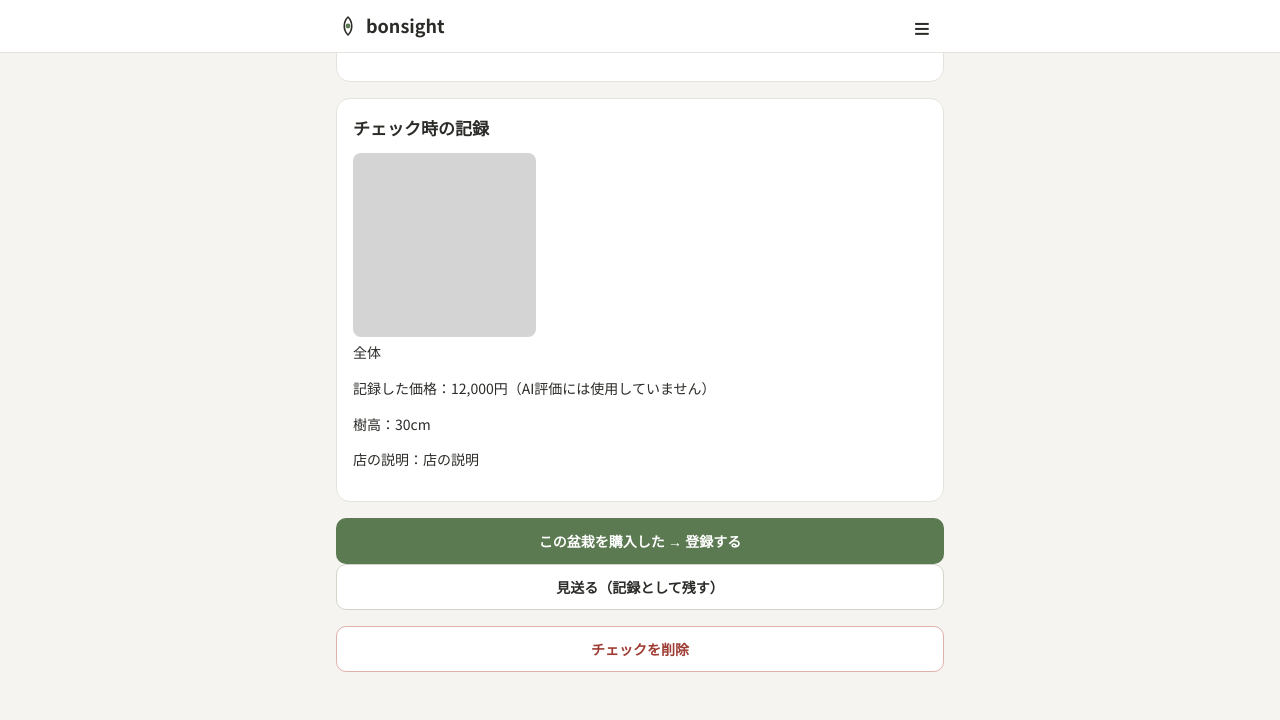
Test: 購入前チェック › JSTの押下日と名前、チェックIDを登録へ引き継ぎ、コピー失敗を通知する
The image size is (1280, 720).
(page scrolled)
Click the button "この盆栽を購入した → 登録する": [640, 541] box [336,518,944,564]
(page scrolled)
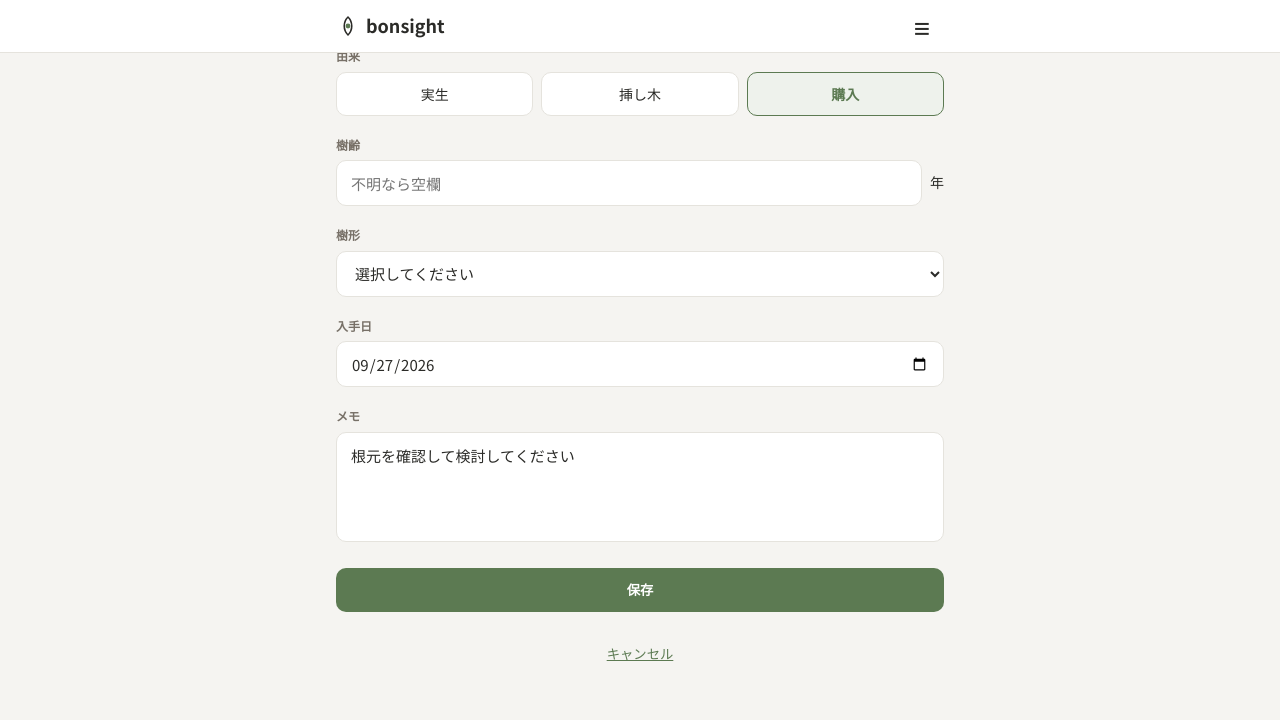
Expected: the date field named "入手日" holds "2026-09-27", [336,342,944,388]
Click the button "保存": [640, 590] box [336,568,944,612]
(page scrolled)
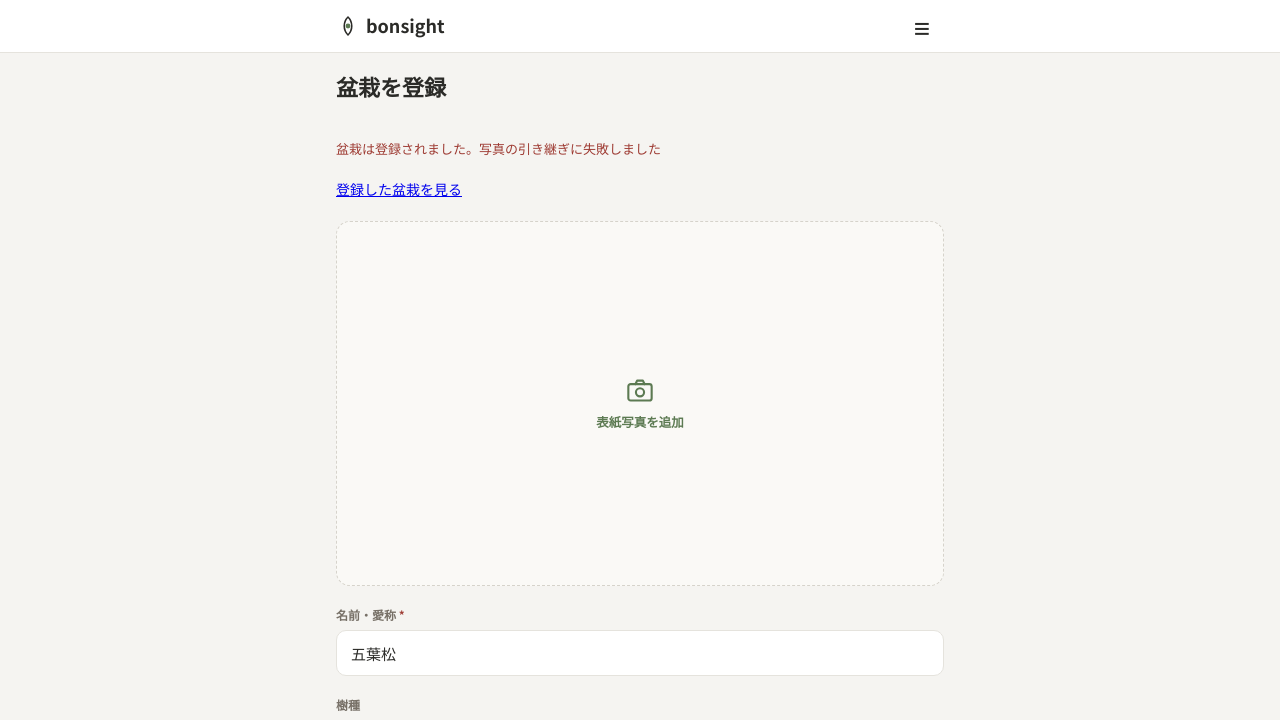
Expected: the message shows "写真の引き継ぎに失敗しました", [336,139,661,158]
